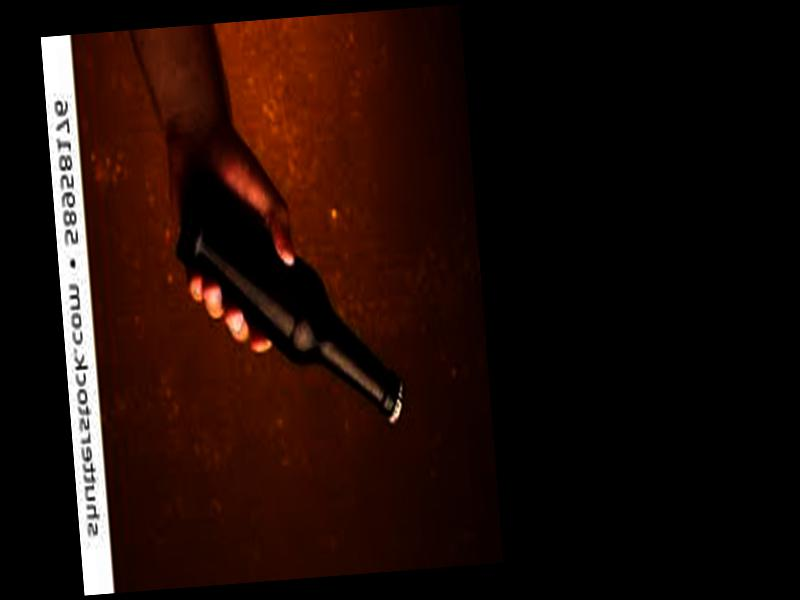Beer: (170, 147, 408, 443)
